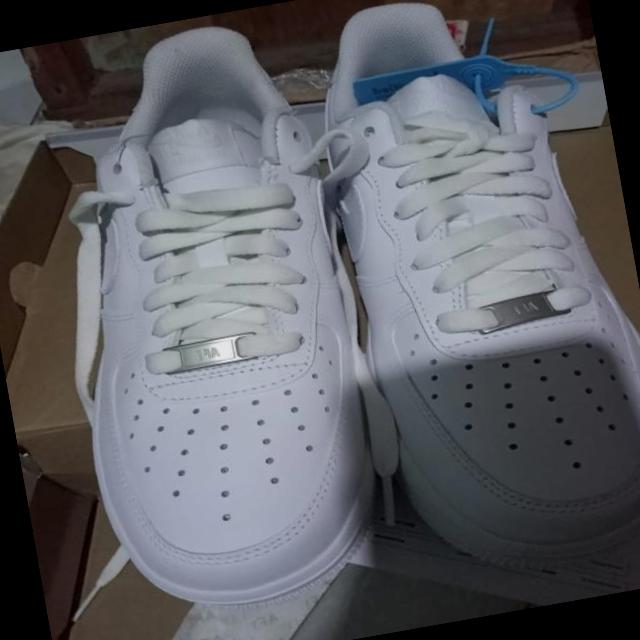nike_original_airforce: (18, 8, 396, 626), (300, 0, 640, 593)
